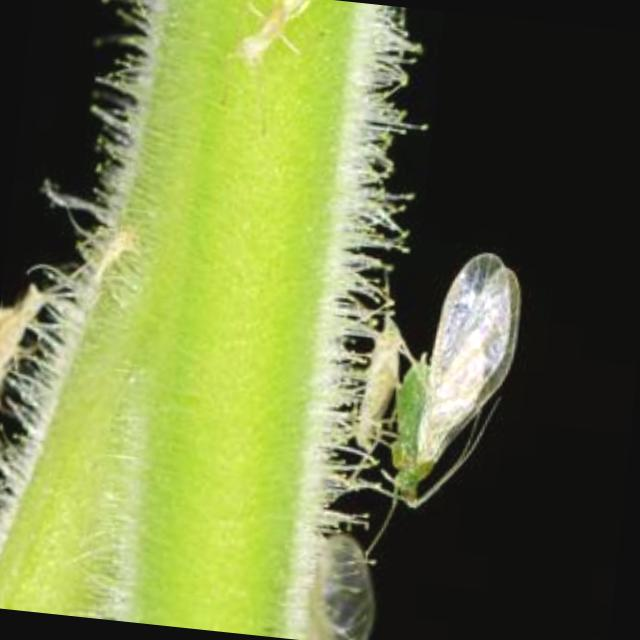Green peach aphid: (303, 216, 577, 554)
